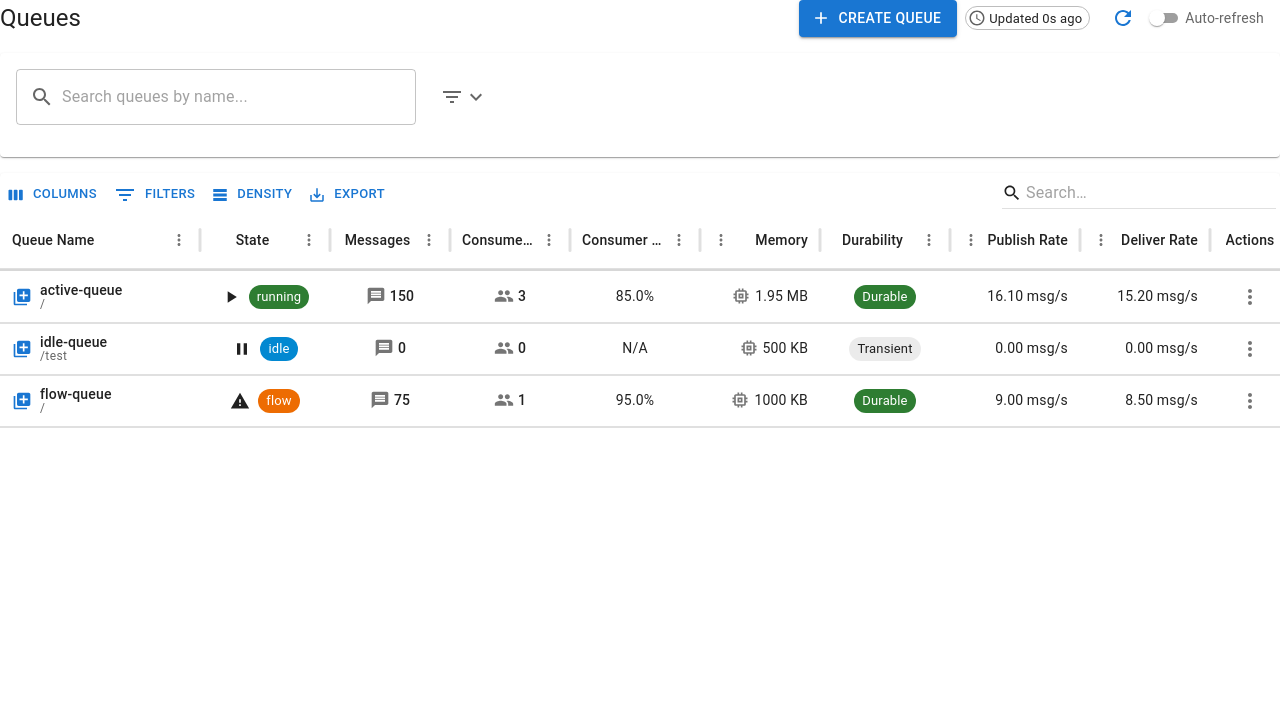
Test: QueuesList › handles queue row click
Expected: the text "active-queue" is shown, [40,282,122,298]
Click the text "active-queue" at (640, 296), box [0,270,1279,322]
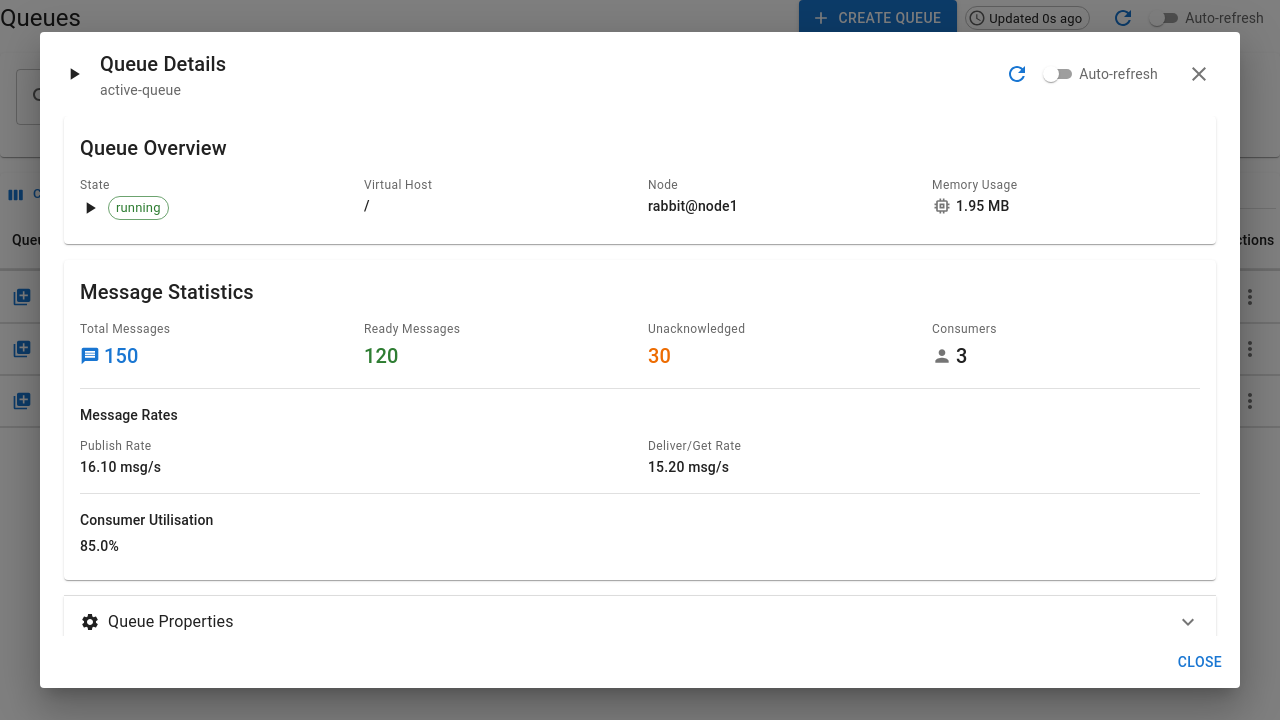
Now the text "Queue Details" is shown, box [100,48,226,80]
